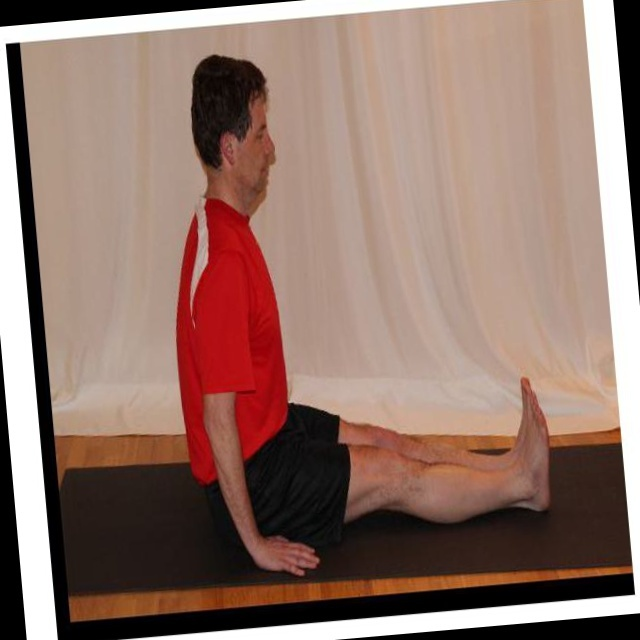Staff_Pose: (177, 53, 555, 580)
